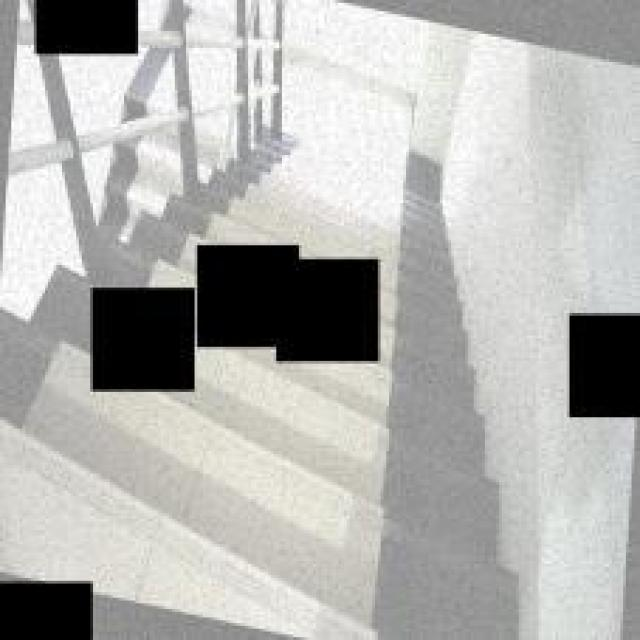downstair: (207, 362, 568, 638)
